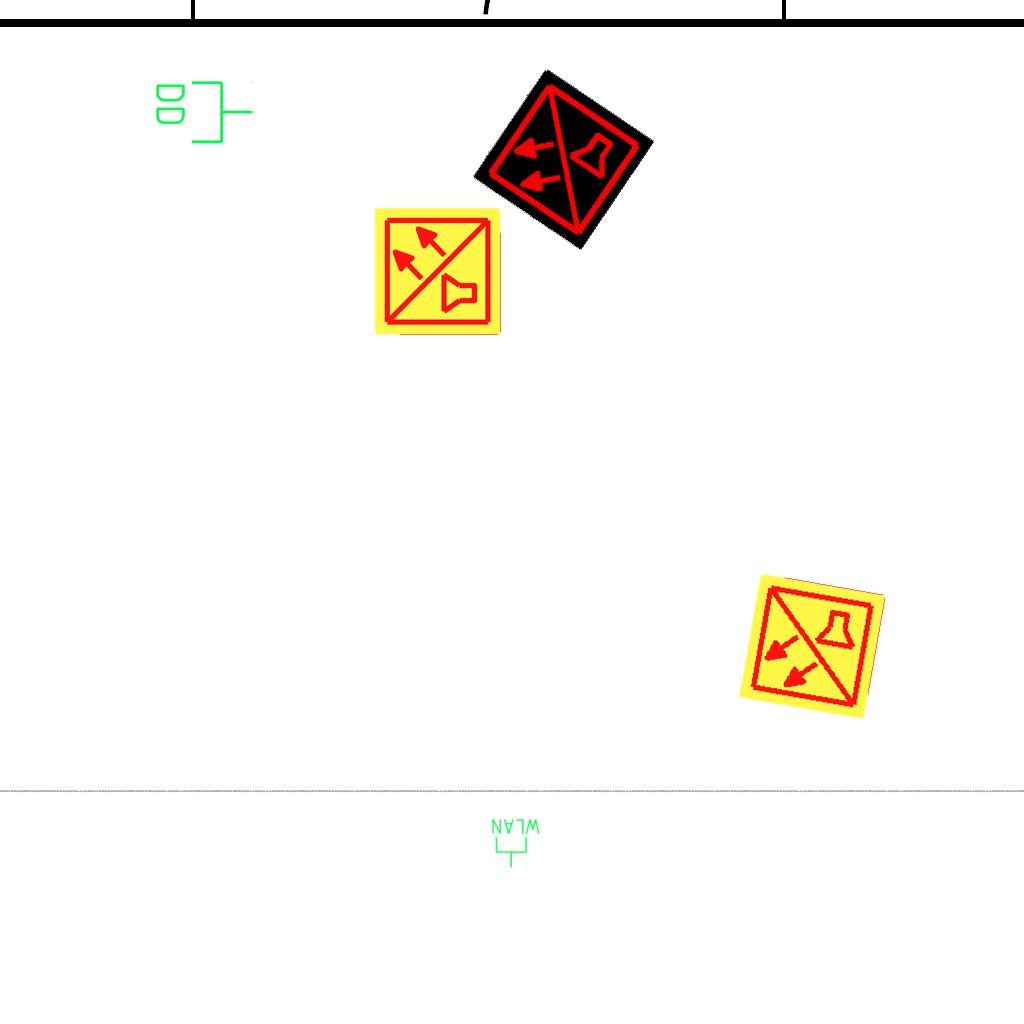Datenanschluss_zweifach: (152, 77, 255, 146)
OKW_Multisensormelder_(Kombination_optischer_Rauch-Kahlenmonoxid_Waerme-Melder): (471, 67, 655, 251), (735, 569, 889, 723), (372, 205, 504, 337)
WLAN: (490, 817, 542, 869)
